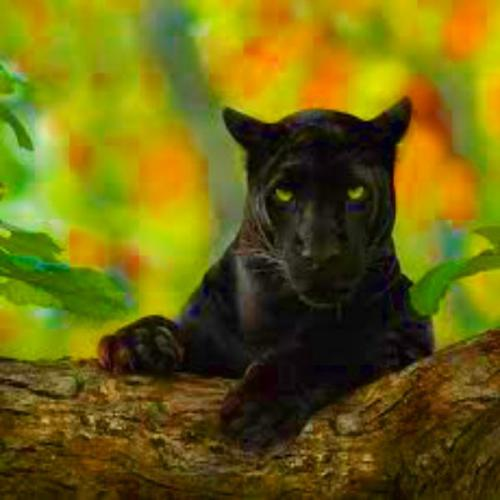panther-endangered: (94, 95, 433, 462)
